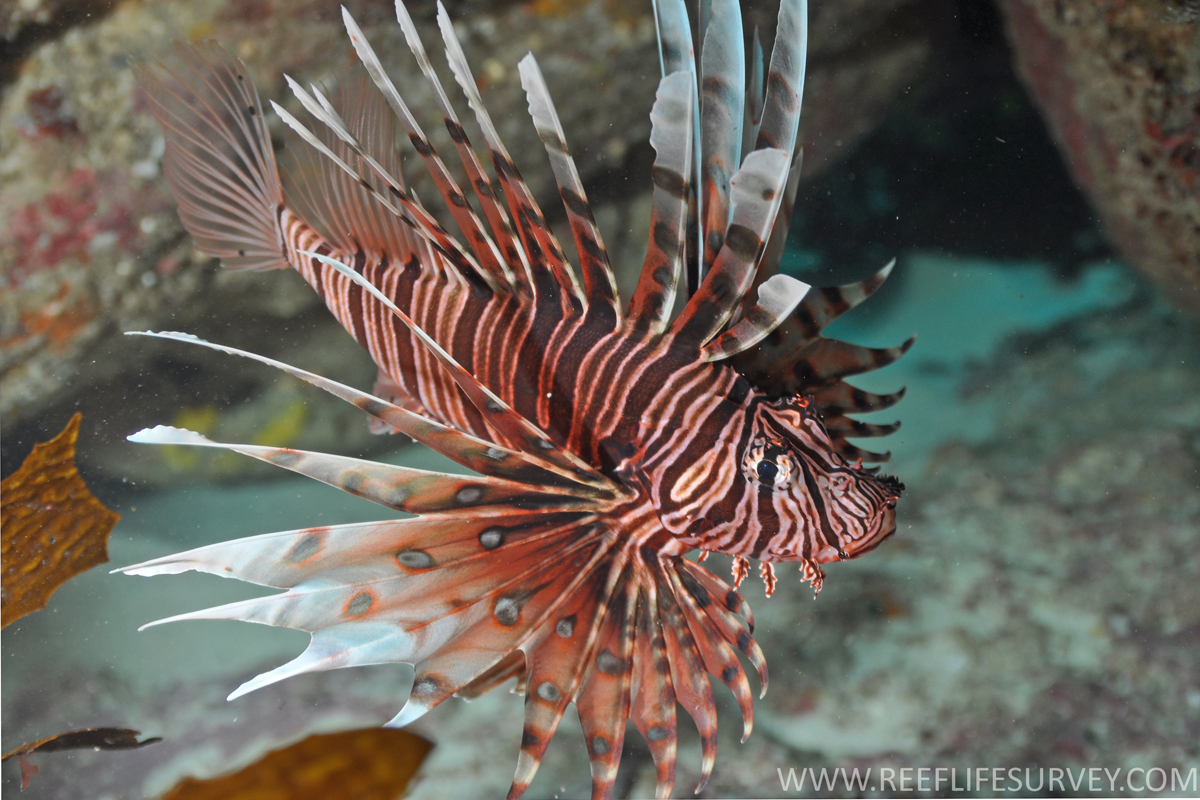Pterois_volitans: (123, 27, 981, 778)
